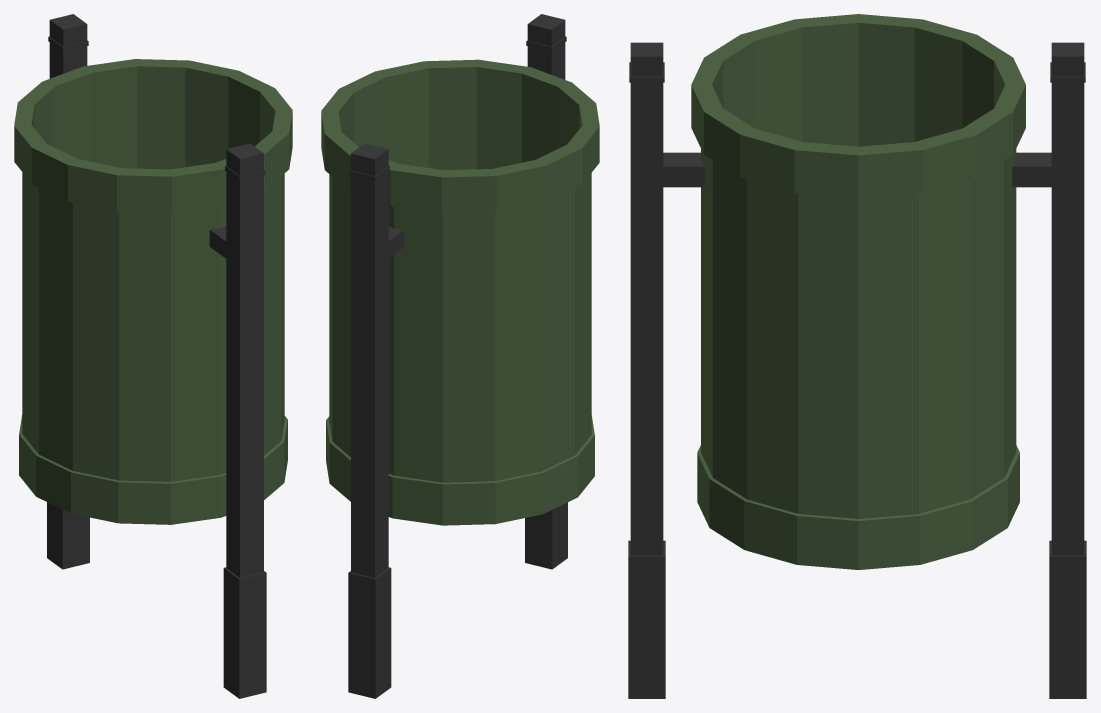
Rendered from Basurero.glb.
3 views of the same model, side by side, from view 1: azimuth 30°, elevation 25°; view 2: azimuth 150°, elevation 25°; view 3: azimuth 270°, elevation 25° (orthographic). The views are drawn at different scales.
Visible parts, largest first — view 1: Cylinder.001, Cube.010; view 2: Cylinder.001, Cube.010; view 3: Cylinder.001, Cube.010.
Boxes of the visible parts, x1=… form: Cylinder.001: x1=14, y1=59, x2=292, y2=524; Cube.010: x1=47, y1=14, x2=266, y2=698; Cylinder.001: x1=321, y1=59, x2=599, y2=525; Cube.010: x1=348, y1=14, x2=567, y2=698; Cylinder.001: x1=691, y1=14, x2=1025, y2=569; Cube.010: x1=628, y1=42, x2=1086, y2=698.
Size of the model in its own units: 0.5931 by 1.25 by 0.8123.
